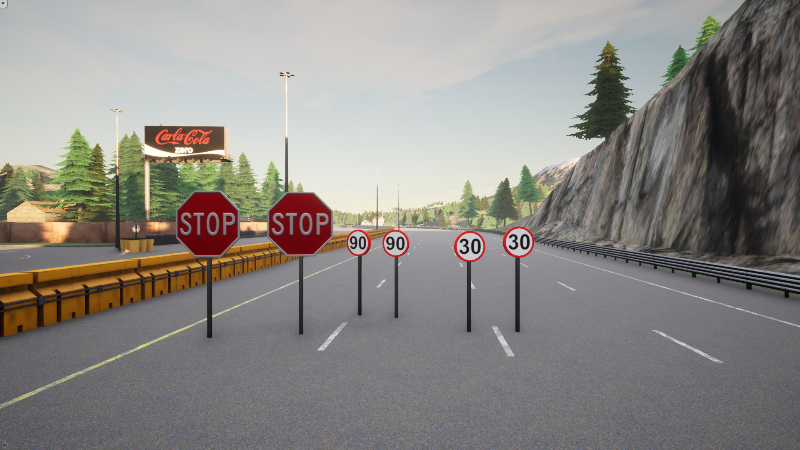fast: (382, 230, 410, 257), (346, 230, 372, 257)
slow: (503, 226, 536, 258), (454, 231, 486, 263)
stop: (175, 190, 241, 258), (266, 192, 334, 256)
